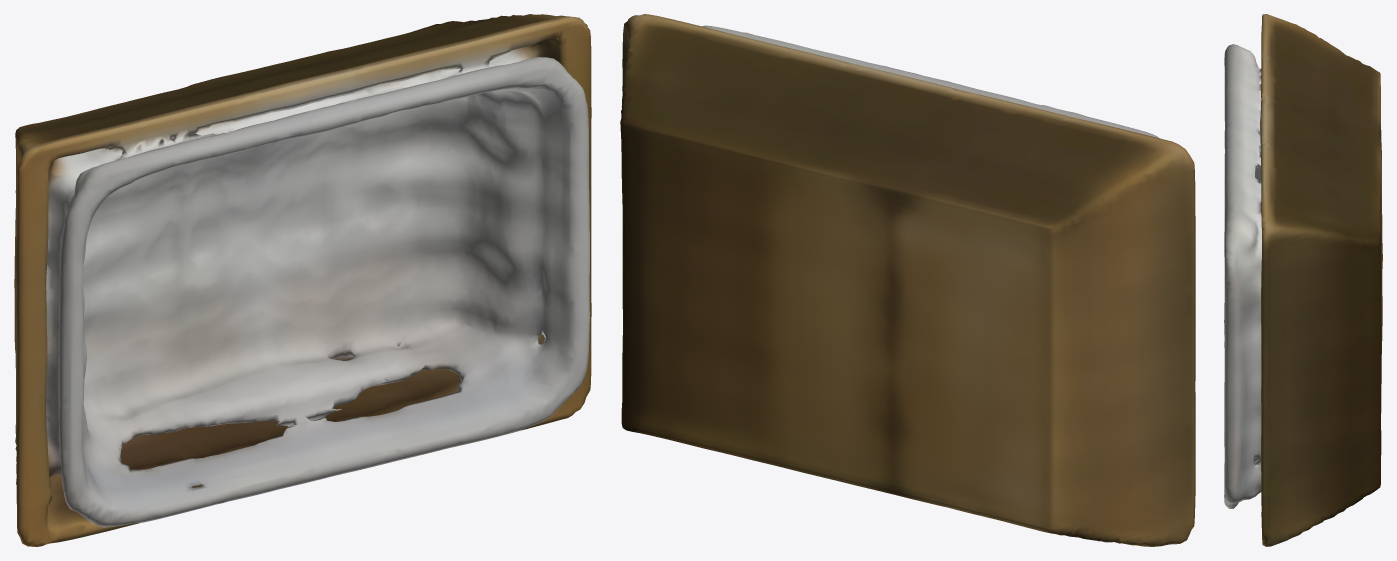
File: soap.glb
3 views of the same model, side by side, from view 1: azimuth 30°, elevation 25°; view 2: azimuth 150°, elevation 25°; view 3: azimuth 270°, elevation 25° (orthographic). The views are drawn at different scales.
Bounding box in the file's own units: 0.9989 × 0.6678 × 0.2976.
